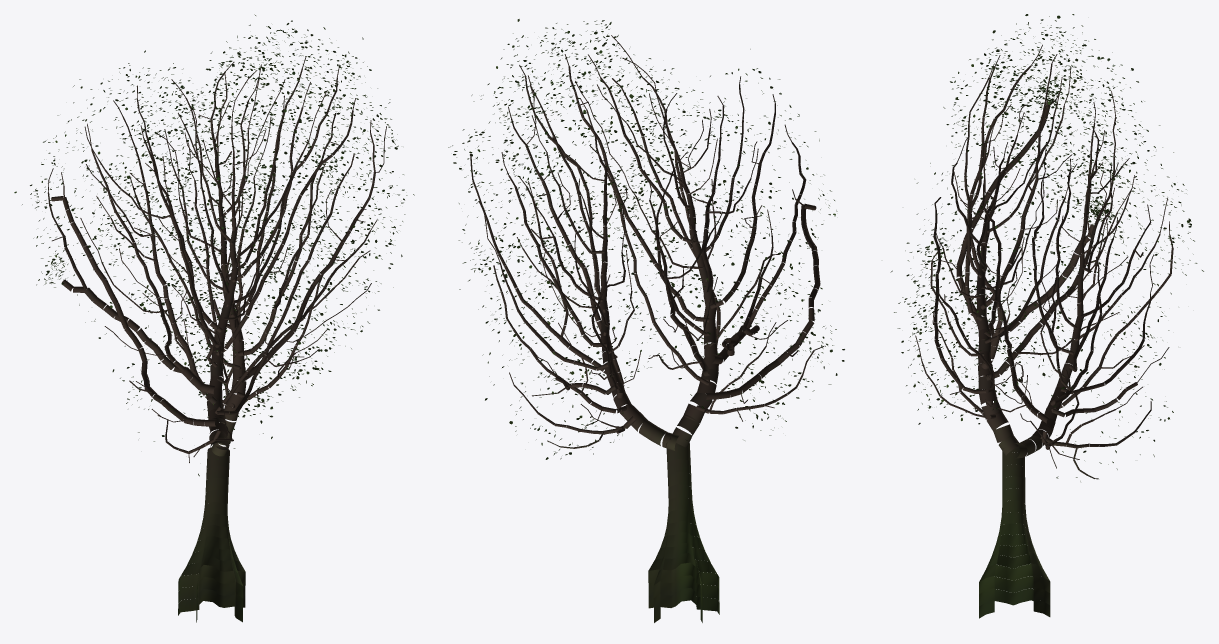
Rendered from SM_Tree_alder_2.glb.
3 renders of one model, left to right at view 1: azimuth 30°, elevation 25°; view 2: azimuth 150°, elevation 25°; view 3: azimuth 270°, elevation 25°, orthographic. The views are drawn at different scales.
Visible parts, largest first — view 1: SM_Tree_alder_2; view 2: SM_Tree_alder_2; view 3: SM_Tree_alder_2.
Part boxes in pixels (x1,y1,x2,y2): SM_Tree_alder_2: (14,14,414,622); SM_Tree_alder_2: (448,19,844,622); SM_Tree_alder_2: (890,14,1203,618).
Bounding box in the file's own units: 8.37 × 12.1 × 6.28.
